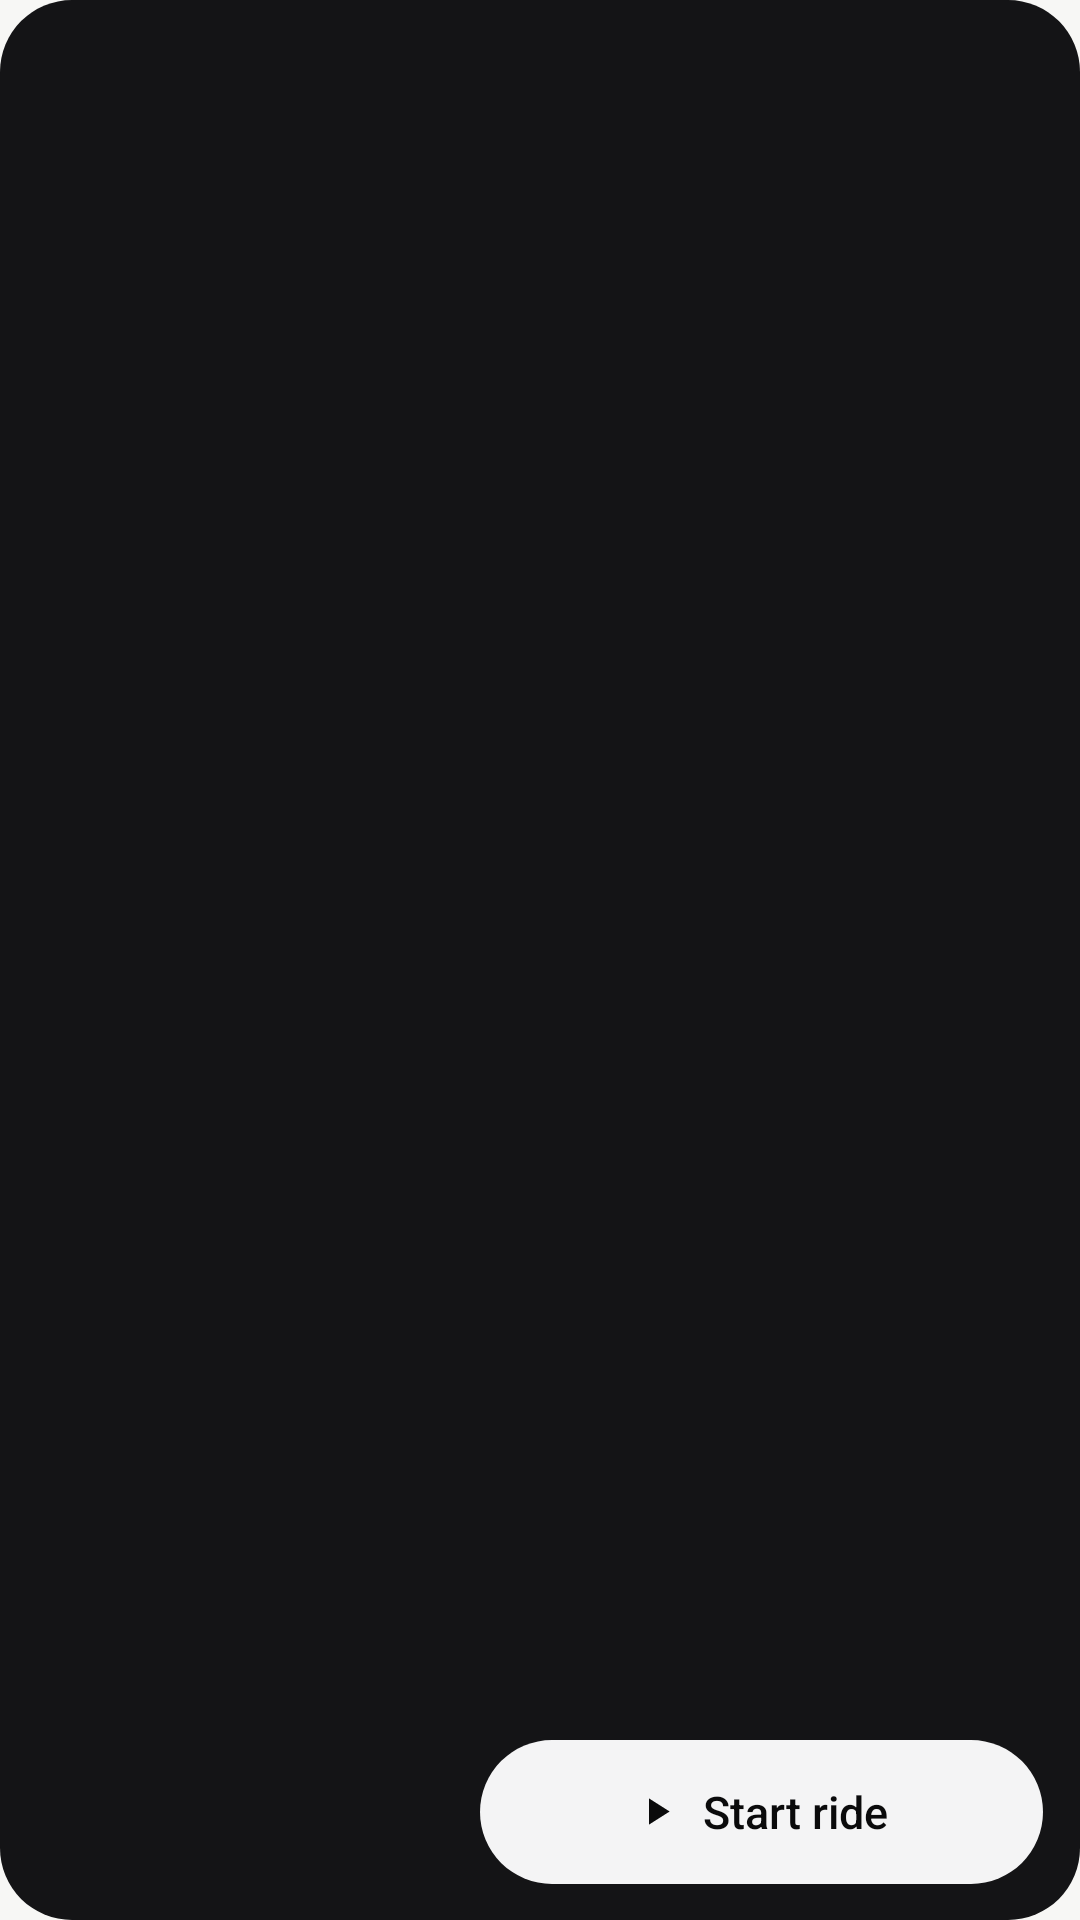

Screen size 1080px×1920px. Icon name, then its box in pixels as (x1, y1, x2, y2):
play: (649, 1798, 670, 1825)
